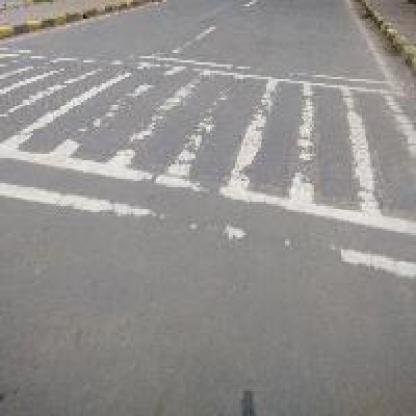Speed Bump: (0, 35, 414, 283)
